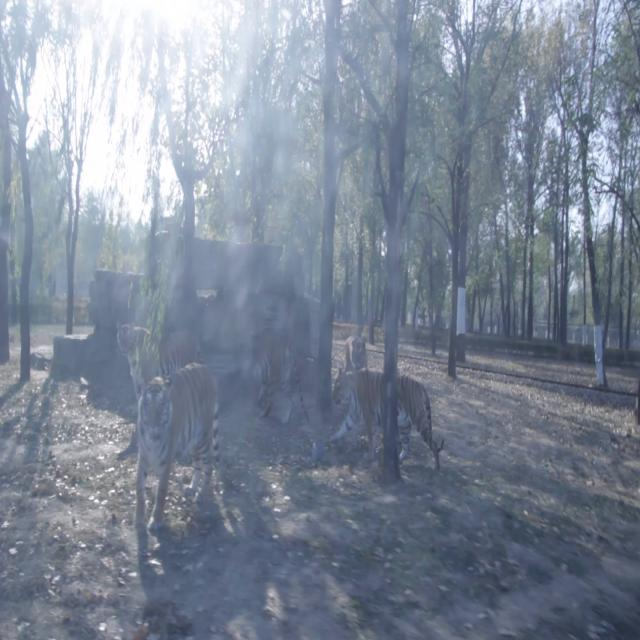Tiger: (120, 358, 228, 553), (332, 365, 446, 470), (108, 318, 206, 384), (246, 321, 307, 416), (339, 329, 378, 373)
